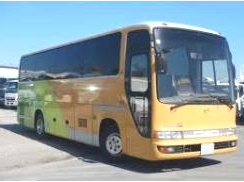bus: (19, 22, 235, 161)
